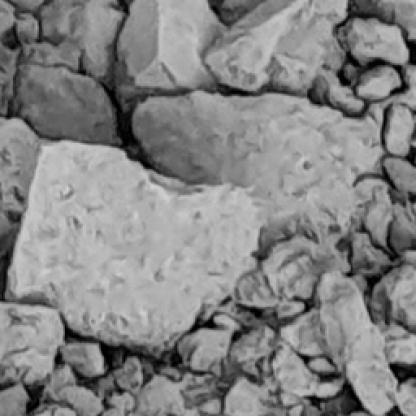cementitious_debris: (1, 1, 414, 413)
